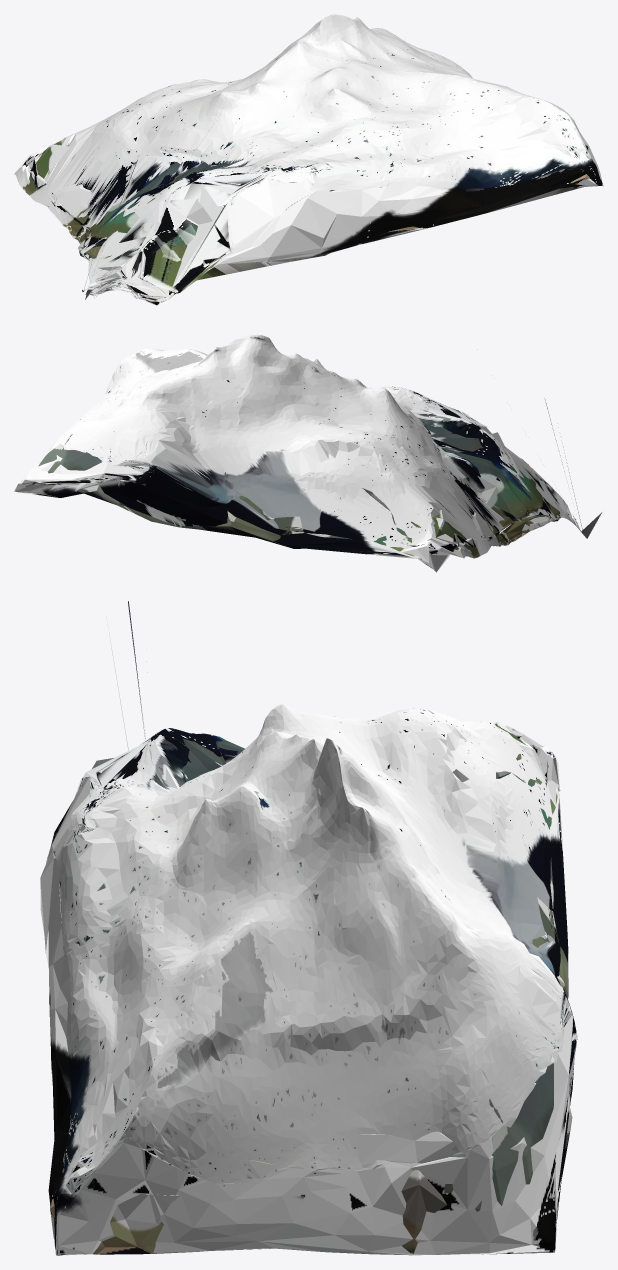
The model's file is sierra nevada blanca terminada.glb.
3 views of the same model, one above another, from view 1: azimuth 30°, elevation 25°; view 2: azimuth 150°, elevation 25°; view 3: azimuth 270°, elevation 25° (orthographic). The views are drawn at different scales.
Parts seen in each view (by area): view 1: world.012; view 2: world.012; view 3: world.012.
Boxes of the visible parts, x1=… form: world.012: x1=14, y1=14, x2=603, y2=305; world.012: x1=14, y1=334, x2=602, y2=572; world.012: x1=40, y1=601, x2=577, y2=1255.
Size of the model in its own units: 2.27 by 0.76 by 1.08.
Materials: 1 (1 with a texture image).
